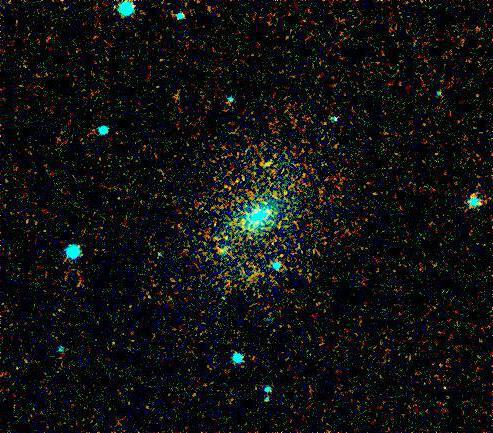star: (253, 149, 283, 179)
